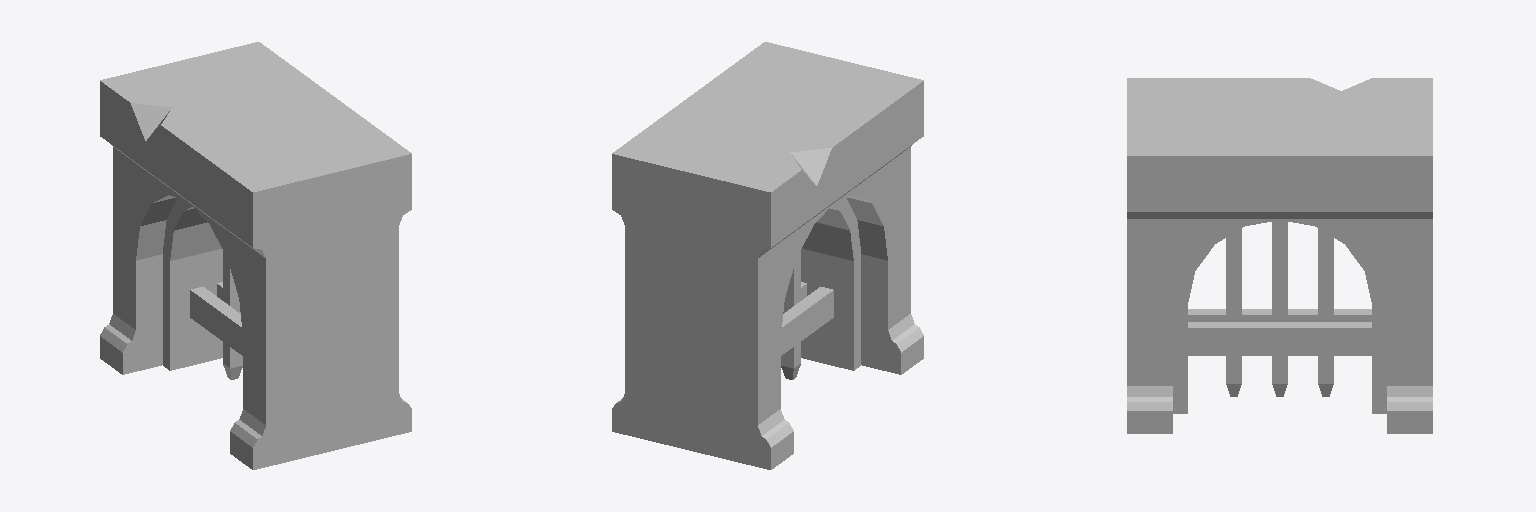
The model's file is wall-gate@gate3.obj.
3 views of the same model, side by side, from view 1: azimuth 30°, elevation 25°; view 2: azimuth 150°, elevation 25°; view 3: azimuth 270°, elevation 25° (orthographic).
Visible parts, largest first — view 1: wall-gate.003; view 2: wall-gate.003; view 3: wall-gate.003.
Part boxes in pixels (left/top/right/bottom): wall-gate.003: left=100, top=42, right=411, bottom=469; wall-gate.003: left=612, top=42, right=923, bottom=469; wall-gate.003: left=1127, top=78, right=1432, bottom=433.
Bounding box in the file's own units: 10.21 × 17.02 × 17.02.